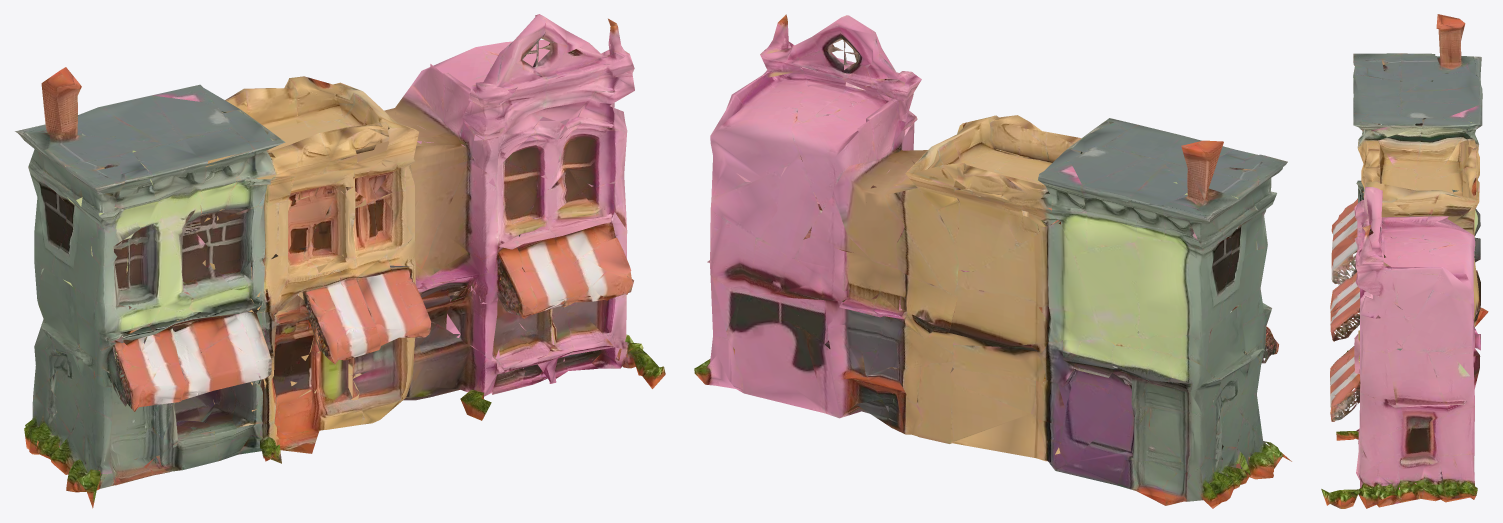
Rendered from cartoon_building.glb.
3 views of the same model, side by side, from view 1: azimuth 30°, elevation 25°; view 2: azimuth 150°, elevation 25°; view 3: azimuth 270°, elevation 25° (orthographic). The views are drawn at different scales.
Parts seen in each view (by area): view 1: Mesh_0_Material001_0; view 2: Mesh_0_Material001_0; view 3: Mesh_0_Material001_0.
Boxes of the visible parts, box(x1,y1,x2,y2) form: Mesh_0_Material001_0: box(15, 14, 665, 508); Mesh_0_Material001_0: box(694, 14, 1291, 508); Mesh_0_Material001_0: box(1321, 14, 1488, 508).
Size of the model in its own units: 1.89 by 1.21 by 0.627.
Materials: 1 (1 with a texture image).
